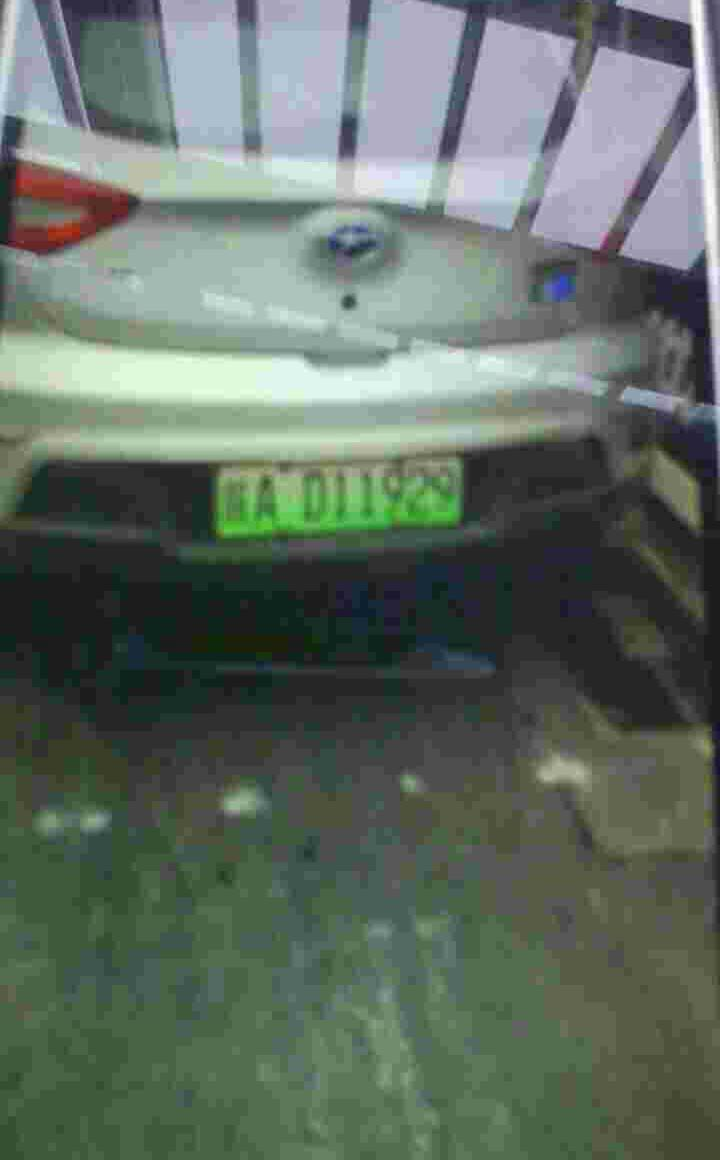car_id: (213, 458, 465, 534)
